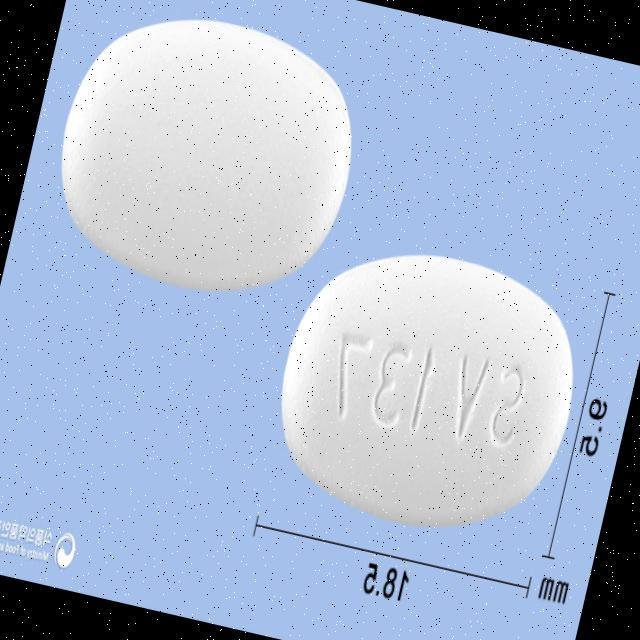Dovato: (256, 225, 596, 554), (34, 0, 377, 319)
